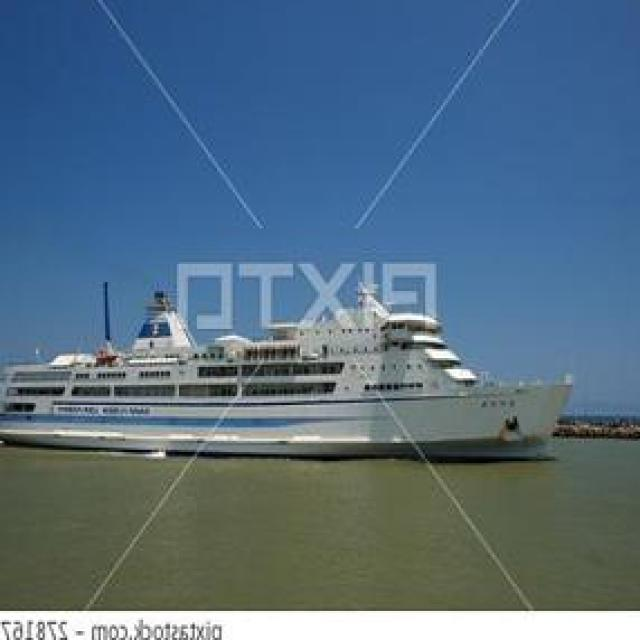passenger ship: (0, 289, 575, 454)
